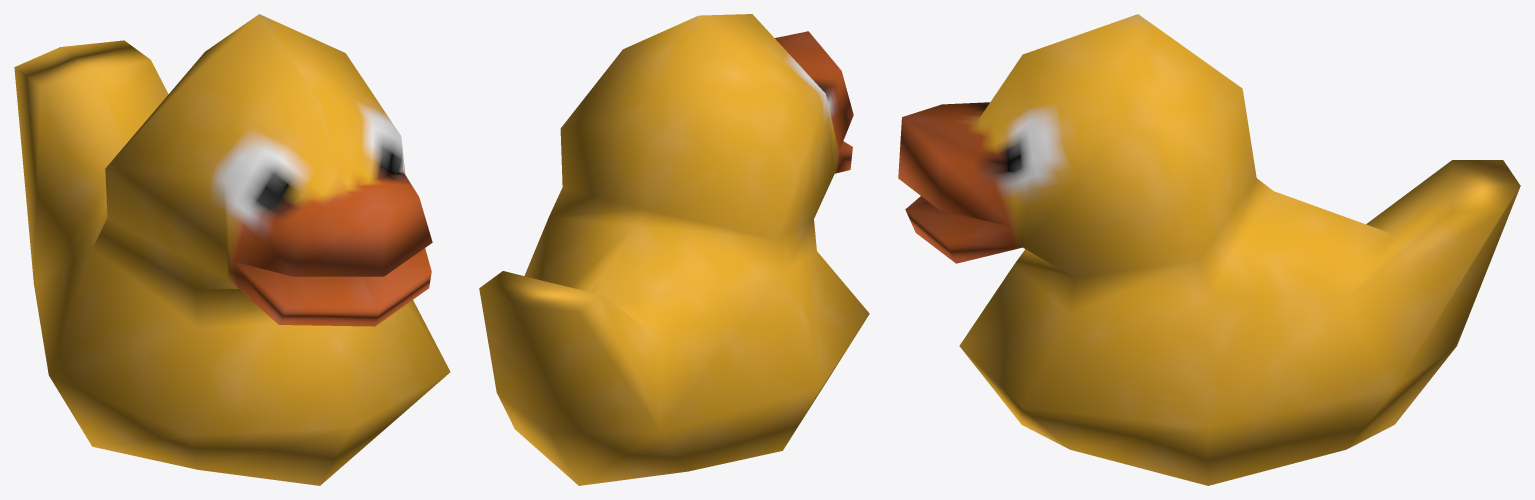
Rendered from ducky.fbx.
3 views of the same model, side by side, from view 1: azimuth 30°, elevation 25°; view 2: azimuth 150°, elevation 25°; view 3: azimuth 270°, elevation 25° (orthographic). The views are drawn at different scales.
Visible parts, largest first — view 1: ducky; view 2: ducky; view 3: ducky.
Boxes of the visible parts, <box> form: ducky: <box>14,14,450,485</box>; ducky: <box>479,14,869,485</box>; ducky: <box>898,14,1520,485</box>.
Bounding box in the file's own units: 0.6896 × 0.8608 × 1.11.
